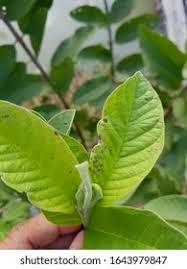Helopeltis-Withered Sprout: (92, 70, 165, 205), (70, 159, 90, 232)
